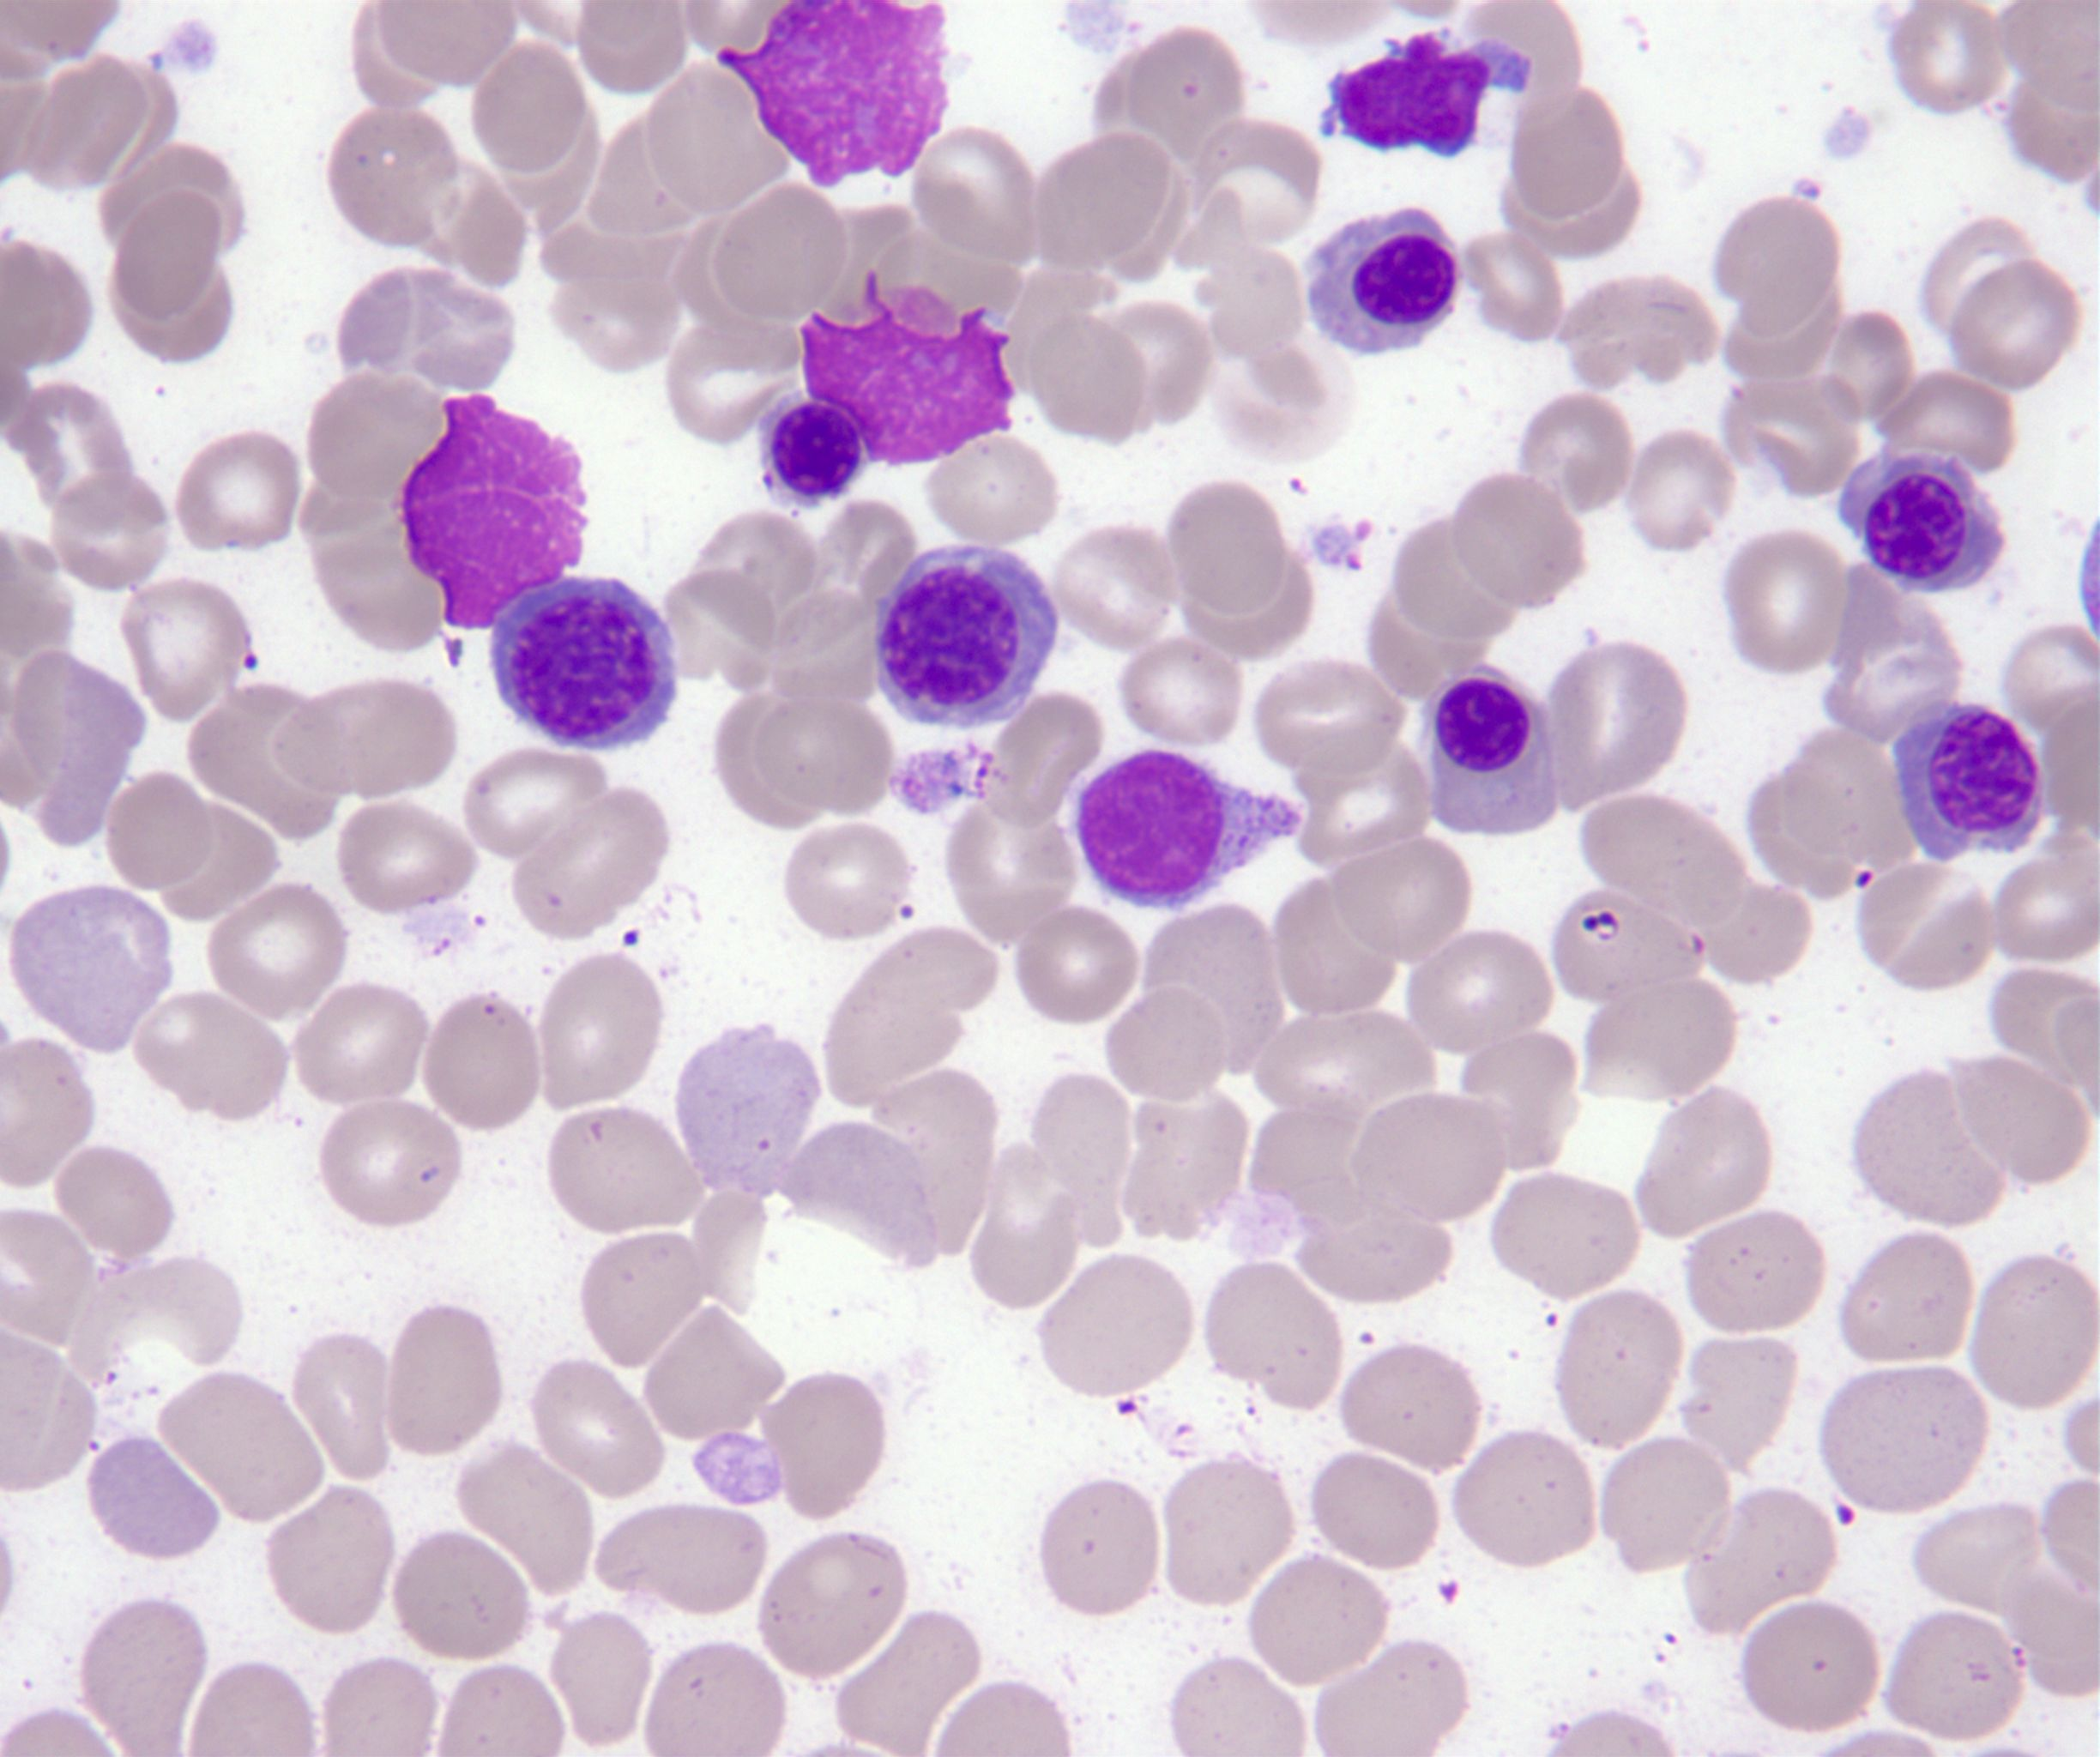23: (874, 550, 1057, 724), (492, 579, 675, 749), (1838, 452, 2006, 590), (1892, 705, 2039, 862)
24: (1422, 665, 1561, 836), (1310, 209, 1456, 352), (755, 398, 867, 509)
32: (1076, 754, 1303, 911), (1317, 35, 1530, 157)
x: (719, 2, 944, 192), (406, 394, 583, 630), (801, 272, 1012, 468)
